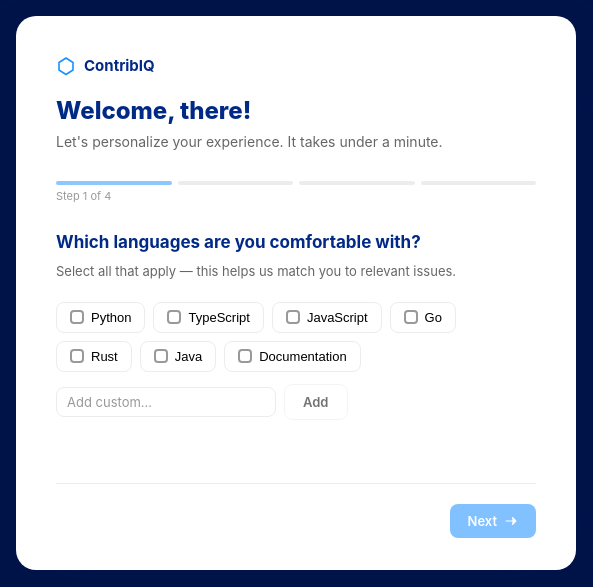
Test case: OnboardingSetupPage — advancing to step 1 › shows "Step 2 of 4" after clicking Next on step 0
The width and height of the screenshot is (593, 587).
Click the button "Python" at (101, 317), box [56, 302, 146, 333]
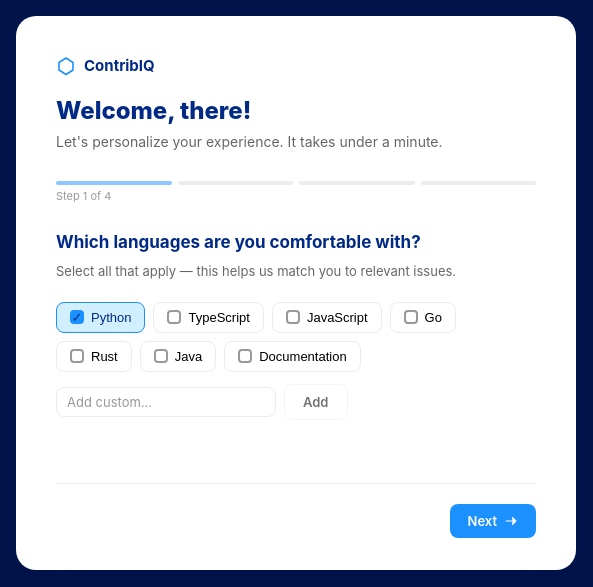
Click the button "Next" at (493, 521), box [450, 504, 536, 538]
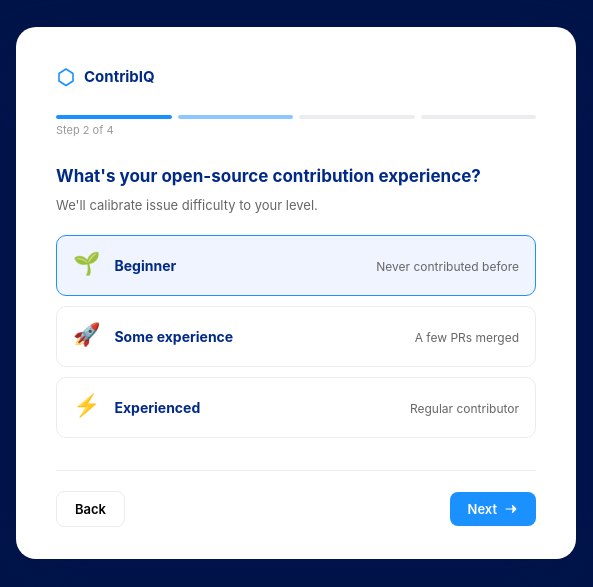
Expected: the text "Step 2 of 4" is shown, [56, 123, 114, 137]
